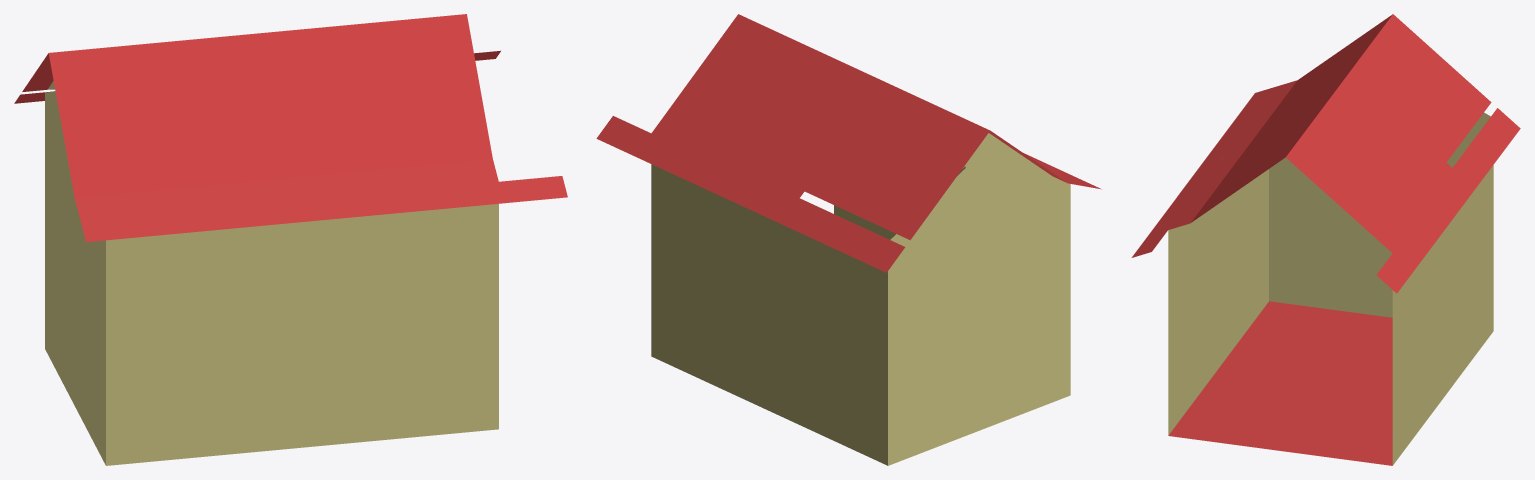
3 views of the same model, side by side, from view 1: azimuth 30°, elevation 25°; view 2: azimuth 150°, elevation 25°; view 3: azimuth 270°, elevation 25° (orthographic). The views are drawn at different scales.
Size of the model in its own units: 21.98 by 18.02 by 15.03.
